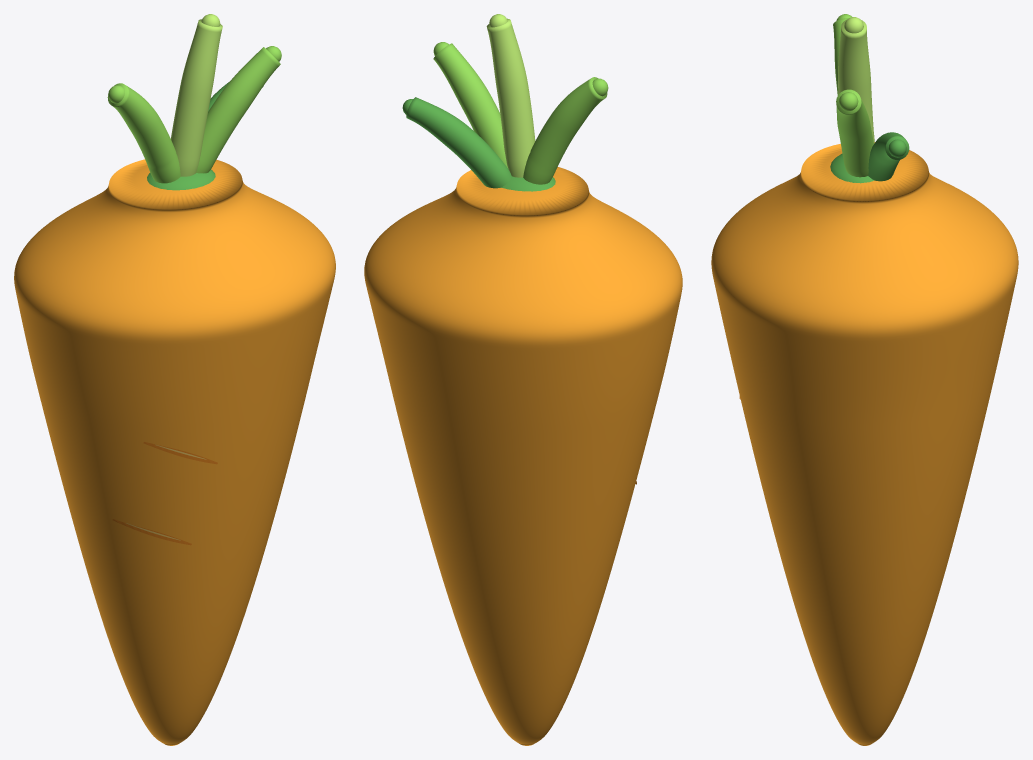
The model's file is Crop_Carrot_Normal_v001_reference_r04.fbx.
The picture shows the model from 3 angles, left to right: view 1: azimuth 30°, elevation 25°; view 2: azimuth 150°, elevation 25°; view 3: azimuth 270°, elevation 25°; orthographic projection. The views are drawn at different scales.
Parts seen in each view (by area): view 1: Crop_Carrot_Normal_v001_Body_Reference_r04, LeafStem_CenterTall_Reference_r04, LeafStem_RightTall_Reference_r04, LeafStem_LeftBack_Reference_r04, LeafStem_GlossyRootKnot_Reference_r04; view 2: Crop_Carrot_Normal_v001_Body_Reference_r04, LeafStem_CenterTall_Reference_r04, LeafStem_LeftBack_Reference_r04, LeafStem_RightLow_Reference_r04, LeafStem_RightTall_Reference_r04; view 3: Crop_Carrot_Normal_v001_Body_Reference_r04, LeafStem_CenterTall_Reference_r04, LeafStem_RightTall_Reference_r04, LeafStem_RightLow_Reference_r04.
Boxes of the visible parts, x1,y1,x2,y2 form: Crop_Carrot_Normal_v001_Body_Reference_r04: (14, 159, 335, 745); LeafStem_CenterTall_Reference_r04: (171, 19, 222, 176); LeafStem_RightTall_Reference_r04: (196, 47, 280, 173); LeafStem_LeftBack_Reference_r04: (107, 83, 180, 183); LeafStem_GlossyRootKnot_Reference_r04: (147, 169, 215, 190); Crop_Carrot_Normal_v001_Body_Reference_r04: (364, 167, 682, 745); LeafStem_CenterTall_Reference_r04: (486, 18, 535, 177); LeafStem_LeftBack_Reference_r04: (523, 77, 607, 184); LeafStem_RightLow_Reference_r04: (406, 97, 511, 188); LeafStem_RightTall_Reference_r04: (433, 43, 508, 168); Crop_Carrot_Normal_v001_Body_Reference_r04: (711, 142, 1018, 745); LeafStem_CenterTall_Reference_r04: (838, 19, 874, 143); LeafStem_RightTall_Reference_r04: (836, 89, 873, 177); LeafStem_RightLow_Reference_r04: (868, 132, 909, 181).
Size of the model in its own units: 108 by 262 by 98.05.
